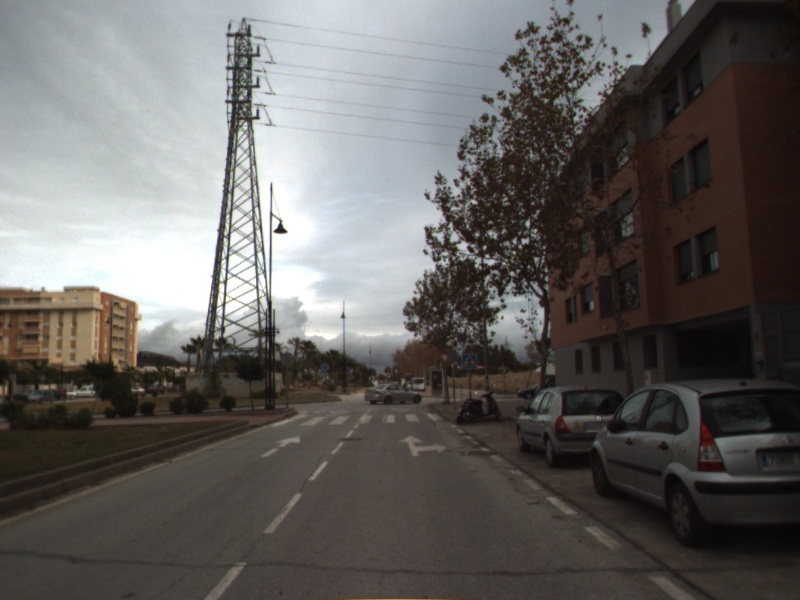STRAIGHT: (259, 433, 302, 459)
STRAIGHT_RIGHT: (397, 433, 448, 458)
